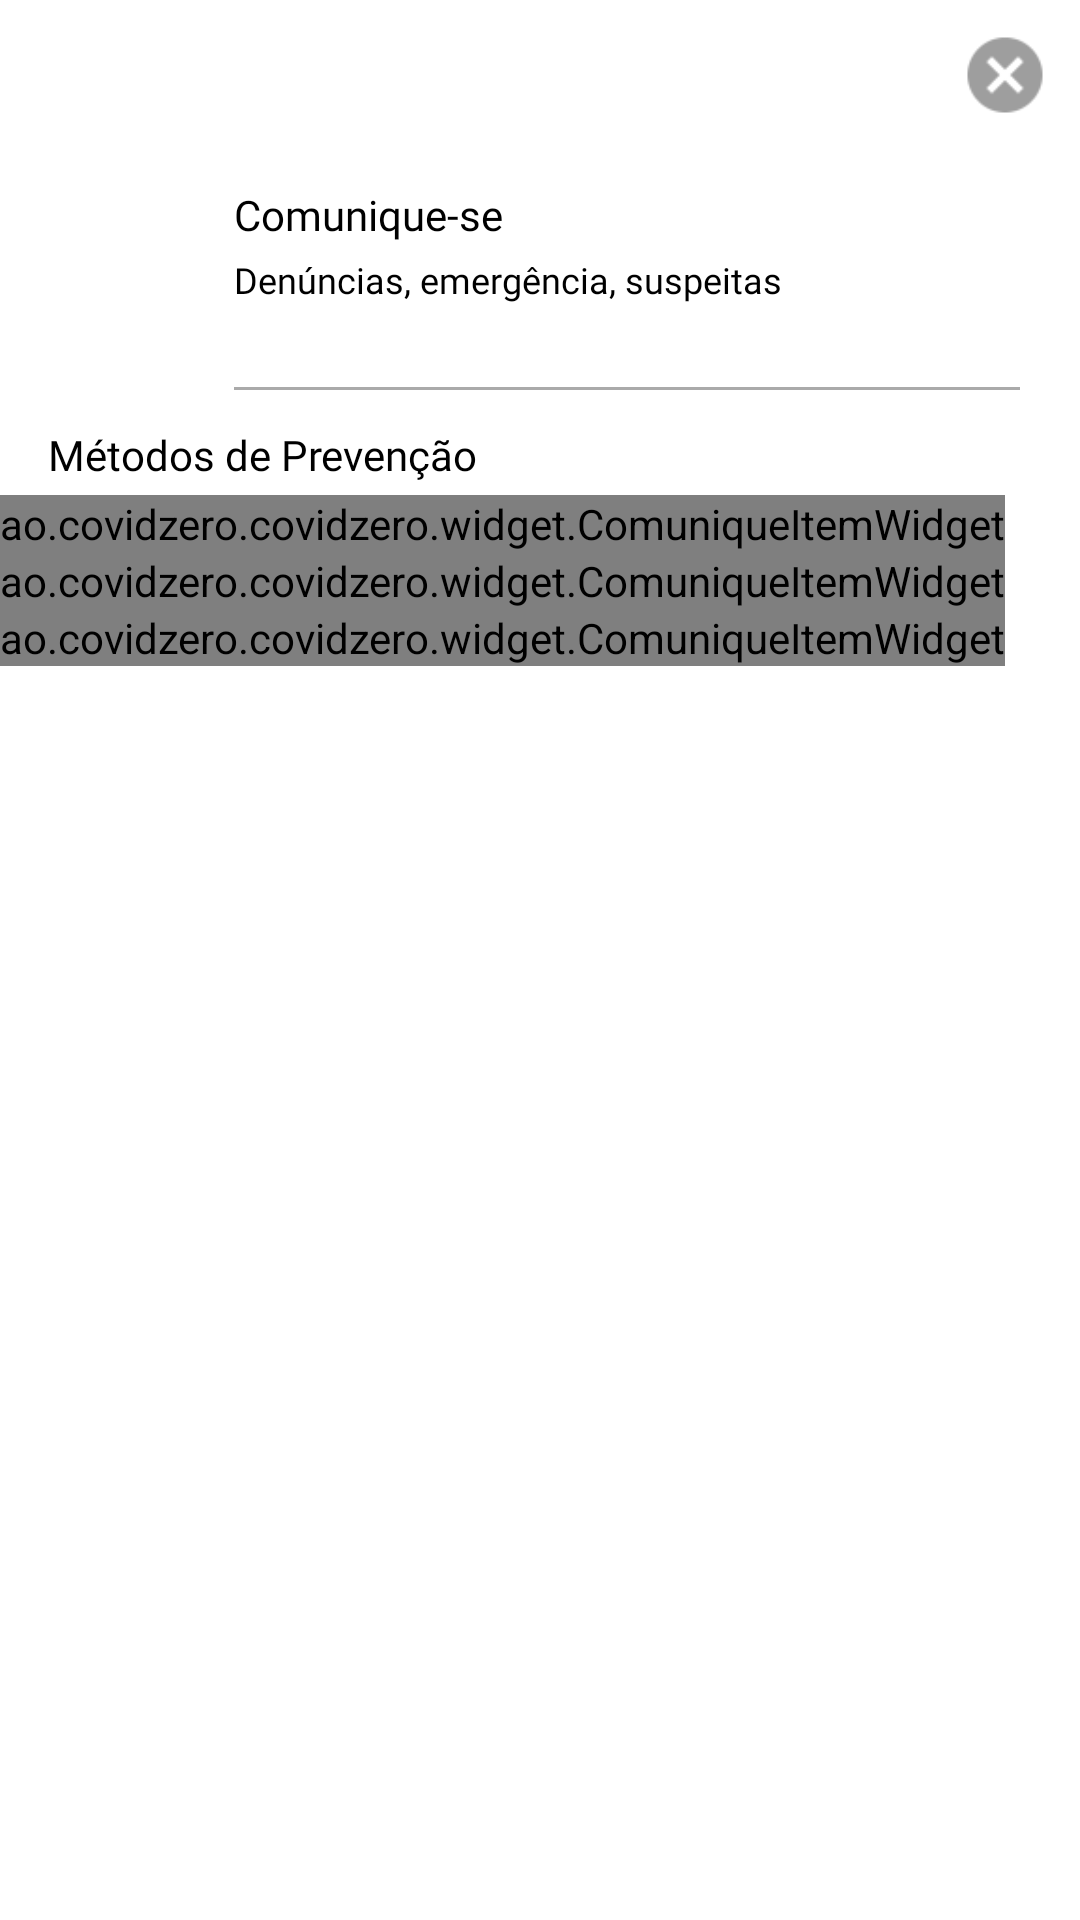

Screen size 1080 × 1920. Icon name, then its center in pixels as (x,y):
cancel: (1005,75)
